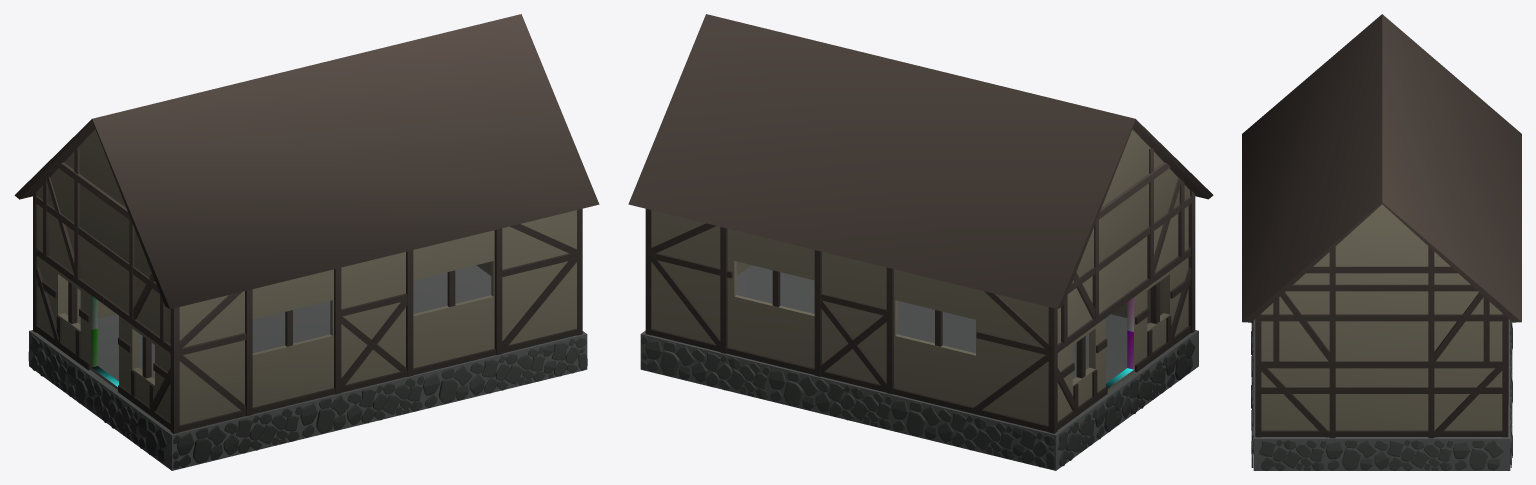
File: Village_House111.fbx
The picture shows the model from 3 angles, left to right: view 1: azimuth 30°, elevation 25°; view 2: azimuth 150°, elevation 25°; view 3: azimuth 270°, elevation 25°; orthographic projection. The views are drawn at different scales.
Parts seen in each view (by area): view 1: Rood outside, House outside, Beams, Stones, Facade, Roof inside; view 2: Rood outside, House outside, Beams, Stones, Facade, Roof inside; view 3: Rood outside, House outside, Beams, Roof inside, Stones, Facade.
Part boxes in pixels (left/top/right/bottom): Rood outside: left=14, top=14, right=599, bottom=309; House outside: left=37, top=205, right=576, bottom=425; Beams: left=33, top=148, right=582, bottom=433; Stones: left=28, top=335, right=587, bottom=469; Facade: left=29, top=265, right=587, bottom=470; Roof inside: left=36, top=129, right=155, bottom=282; Rood outside: left=628, top=14, right=1213, bottom=309; House outside: left=651, top=206, right=1188, bottom=425; Beams: left=645, top=148, right=1195, bottom=433; Stones: left=641, top=336, right=1195, bottom=469; Facade: left=640, top=265, right=1198, bottom=470; Roof inside: left=1072, top=129, right=1189, bottom=282; Rood outside: left=1242, top=14, right=1521, bottom=322; House outside: left=1261, top=321, right=1502, bottom=430; Beams: left=1255, top=246, right=1508, bottom=438; Roof inside: left=1261, top=204, right=1502, bottom=314; Stones: left=1251, top=321, right=1512, bottom=470; Facade: left=1253, top=319, right=1510, bottom=470.
Bounding box in the file's own units: 1142 × 767 × 718.
Materials: 1 (1 with a texture image).
